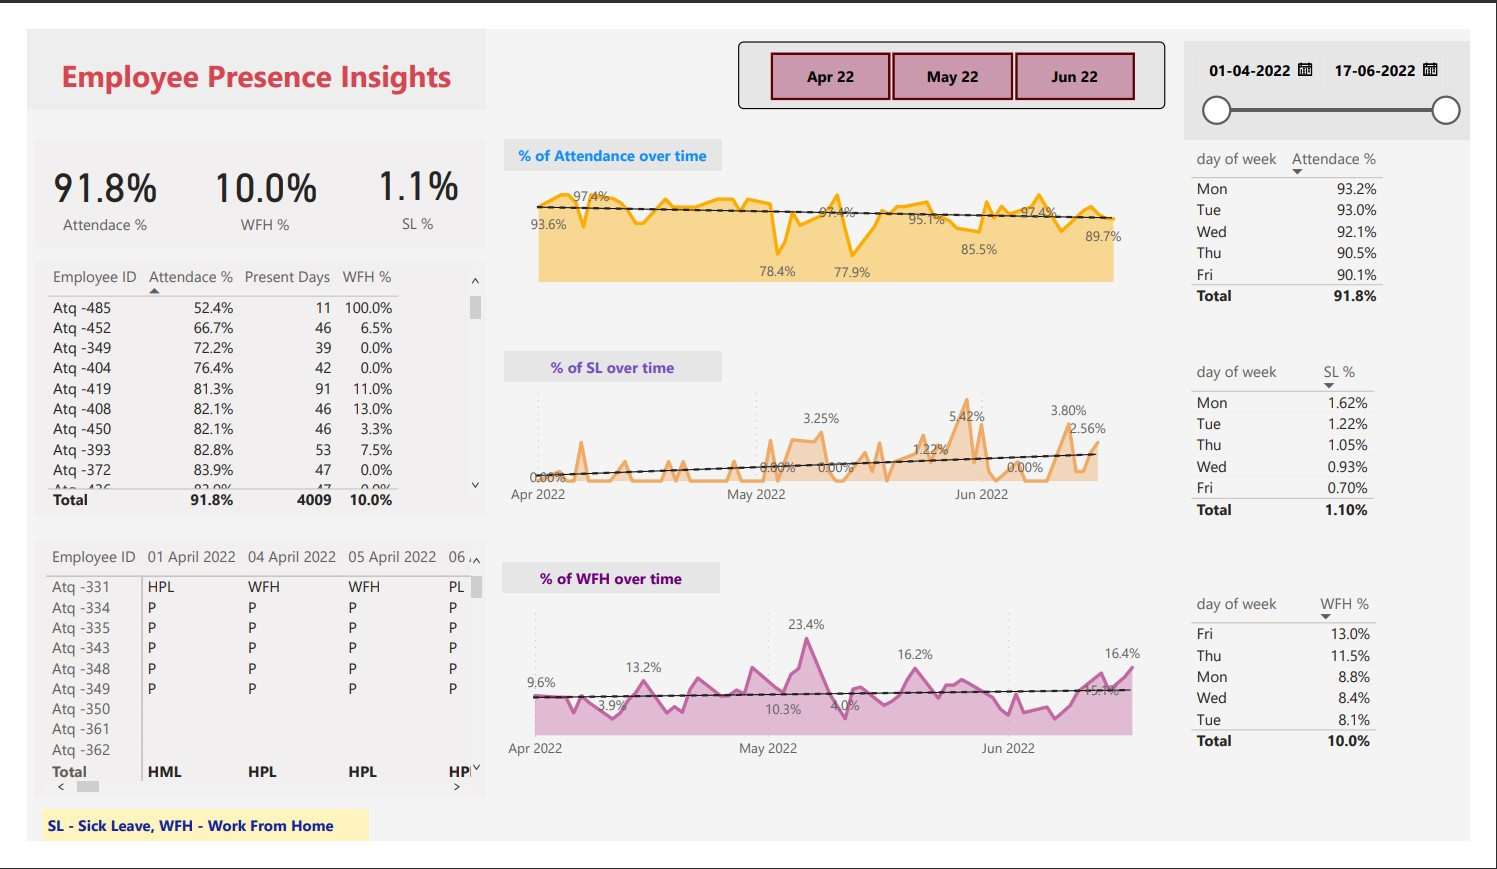

The page's visual inventory and layout, read from the dashboard file:
{"tool":"powerbi","page":{"name":"Presence Insights","canvas":[1280,720],"ordinal":0},"visuals":[{"type":"textbox","box":[7.8,205.6,399.9,225.5],"z":0},{"type":"textbox","box":[7.8,453.3,399.8,227.6],"z":1000},{"type":"textbox","box":[7.8,98,399.9,95.4],"z":3000},{"type":"tableEx","fields":{"Values":["Final Data.Employee ID","Measures (2).Attendace %","Measures (2).Present Days","Measures (2).WFH %"]},"box":[12.6,205.2,394.9,225.7],"z":4000},{"type":"slicer","fields":{"Values":["Final Data.Date"]},"box":[1026.8,11,253,86.8],"z":5000},{"type":"slicer","fields":{"Values":["Final Data.MMM YY"]},"box":[630.8,11,378.9,59.9],"z":6000},{"type":"areaChart","fields":{"Category":["Final Data.MMM YY","Final Data.Date"],"Y":["Measures (2).WFH %"]},"box":[420.7,502.3,589,153.5],"z":7000},{"type":"areaChart","fields":{"Category":["Final Data.WeekNo","Final Data.Date"],"Y":["Measures (2).Attendace %"]},"box":[438.8,125.9,540.3,102.7],"z":8000},{"type":"card","fields":{"Values":["Measures (2).Attendace %"]},"box":[7.8,98,124,96.3],"z":9000},{"type":"card","fields":{"Values":["Measures (2).WFH %"]},"box":[141.4,98,138.8,96.3],"z":10000},{"type":"areaChart","fields":{"Category":["Final Data.MMM YY","Final Data.Date"],"Y":["Measures (2).SL %"]},"box":[422.5,307.1,556,124],"z":11000},{"type":"card","fields":{"Values":["Measures (2).SL %"]},"box":[286.3,97.2,121.4,96.3],"z":13000},{"type":"textbox","box":[0,0,407.1,70.9],"z":14000},{"type":"textbox","box":[422.4,98.2,192.5,27.5],"z":15000},{"type":"textbox","box":[422.5,286.3,192.6,26.9],"z":16000},{"type":"textbox","box":[422.1,473.7,192.6,27.2],"z":17000},{"type":"pivotTable","fields":{"Rows":["Final Data.Employee ID"],"Columns":["Final Data.Date"],"Values":["Min(Final Data.Value)"]},"box":[11.7,453.3,395.9,227.6],"z":18000},{"type":"textbox","box":[13.6,691.6,289.8,28.2],"z":19000},{"type":"tableEx","fields":{"Values":["Final Data.day of week","Measures (2).Attendace %"]},"box":[1026.8,100.2,210.3,160.1],"z":20000},{"type":"tableEx","fields":{"Values":["Final Data.day of week","Measures (2).SL %"]},"box":[1026.8,289.7,191.9,158.9],"z":21000},{"type":"tableEx","fields":{"Values":["Final Data.day of week","Measures (2).WFH %"]},"box":[1026.8,495.1,191.9,167.5],"z":22000}]}

Visuals, with their boxes on the page's 1280x720 design canvas (x1, y1, x2, y2). These are canvas units, not pixel positions in the 1497x869 screenshot, which may show the page scaled, cropped or inside an application window:
textbox: (x1=8, y1=206, x2=408, y2=431)
textbox: (x1=8, y1=453, x2=408, y2=681)
textbox: (x1=8, y1=98, x2=408, y2=193)
tableEx - Final Data.Employee ID x Measures (2).Attendace %: (x1=13, y1=205, x2=408, y2=431)
slicer - Final Data.Date: (x1=1027, y1=11, x2=1280, y2=98)
slicer - Final Data.MMM YY: (x1=631, y1=11, x2=1010, y2=71)
areaChart - Final Data.MMM YY x Final Data.Date: (x1=421, y1=502, x2=1010, y2=656)
areaChart - Final Data.WeekNo x Final Data.Date: (x1=439, y1=126, x2=979, y2=229)
card - Measures (2).Attendace %: (x1=8, y1=98, x2=132, y2=194)
card - Measures (2).WFH %: (x1=141, y1=98, x2=280, y2=194)
areaChart - Final Data.MMM YY x Final Data.Date: (x1=422, y1=307, x2=978, y2=431)
card - Measures (2).SL %: (x1=286, y1=97, x2=408, y2=194)
textbox: (x1=0, y1=0, x2=407, y2=71)
textbox: (x1=422, y1=98, x2=615, y2=126)
textbox: (x1=422, y1=286, x2=615, y2=313)
textbox: (x1=422, y1=474, x2=615, y2=501)
pivotTable - Final Data.Employee ID x Final Data.Date: (x1=12, y1=453, x2=408, y2=681)
textbox: (x1=14, y1=692, x2=303, y2=720)
tableEx - Final Data.day of week x Measures (2).Attendace %: (x1=1027, y1=100, x2=1237, y2=260)
tableEx - Final Data.day of week x Measures (2).SL %: (x1=1027, y1=290, x2=1219, y2=449)
tableEx - Final Data.day of week x Measures (2).WFH %: (x1=1027, y1=495, x2=1219, y2=663)
